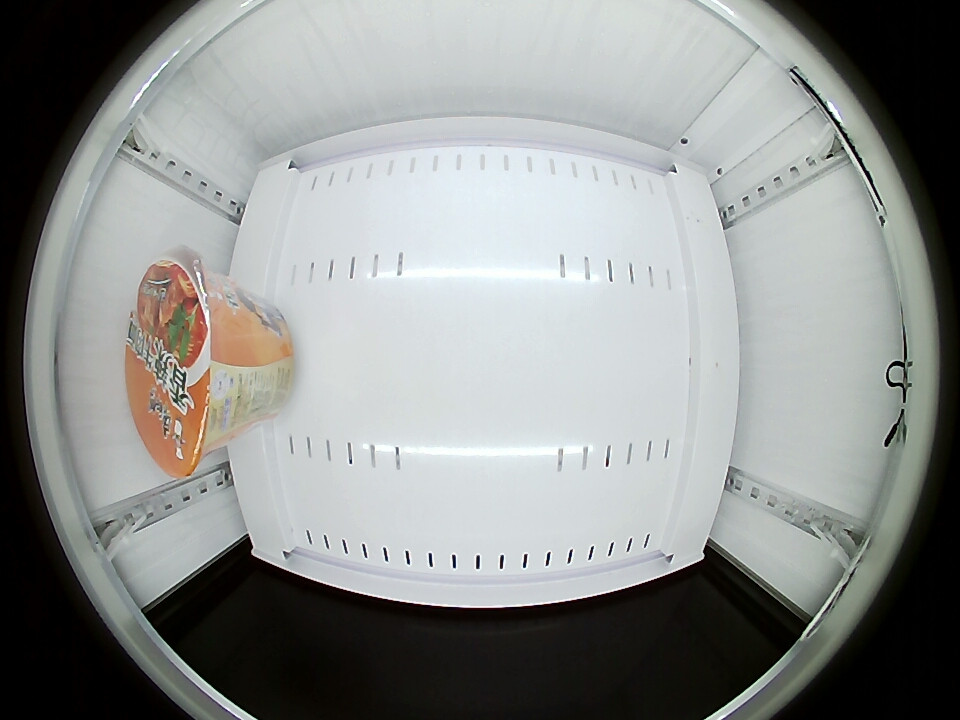xianglaniurou: (126, 256, 244, 476)
